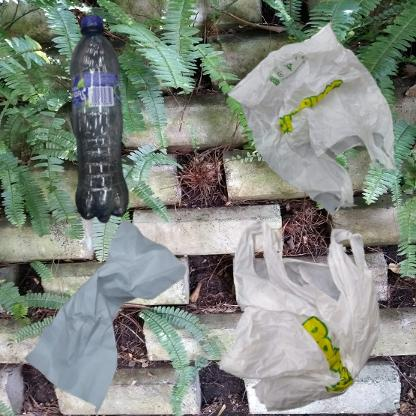bolsa: (213, 10, 416, 226), (213, 213, 398, 416)
botella: (10, 10, 225, 278)
papel: (10, 213, 204, 416)
